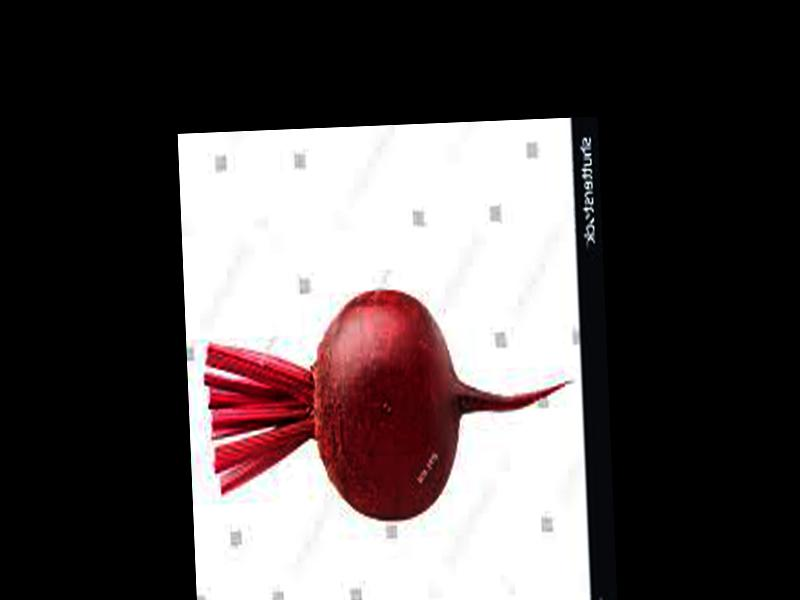Beet: (202, 283, 577, 527)
